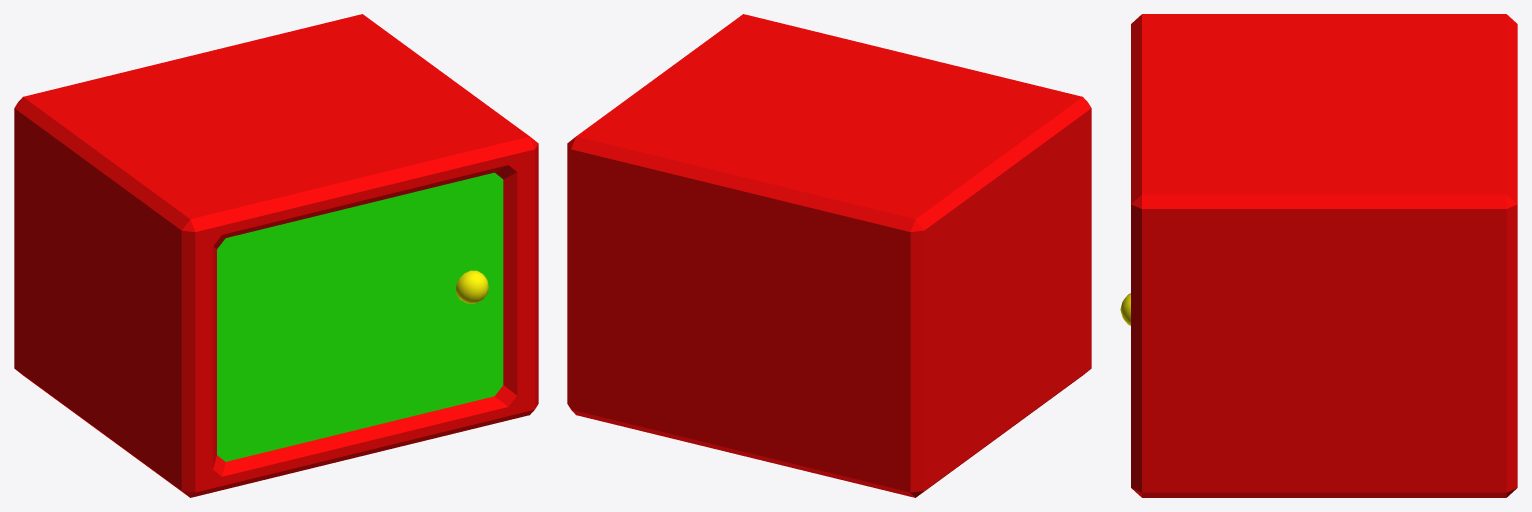
The model's file is umgebung_kuechenschrank_waagerecht_low.FBX.
3 renders of one model, left to right at view 1: azimuth 30°, elevation 25°; view 2: azimuth 150°, elevation 25°; view 3: azimuth 270°, elevation 25°, orthographic. The views are drawn at different scales.
Visible parts, largest first — view 1: o_kuechenschrank_waagerecht_low, o_tuer_low, o_griff_low; view 2: o_kuechenschrank_waagerecht_low; view 3: o_kuechenschrank_waagerecht_low.
Part boxes in pixels (x1,y1,x2,y2): o_kuechenschrank_waagerecht_low: (14,14,538,497); o_tuer_low: (217,172,503,461); o_griff_low: (456,270,488,303); o_kuechenschrank_waagerecht_low: (567,14,1091,497); o_kuechenschrank_waagerecht_low: (1131,14,1517,497).
Bounding box in the file's own units: 122 × 108 × 91.
